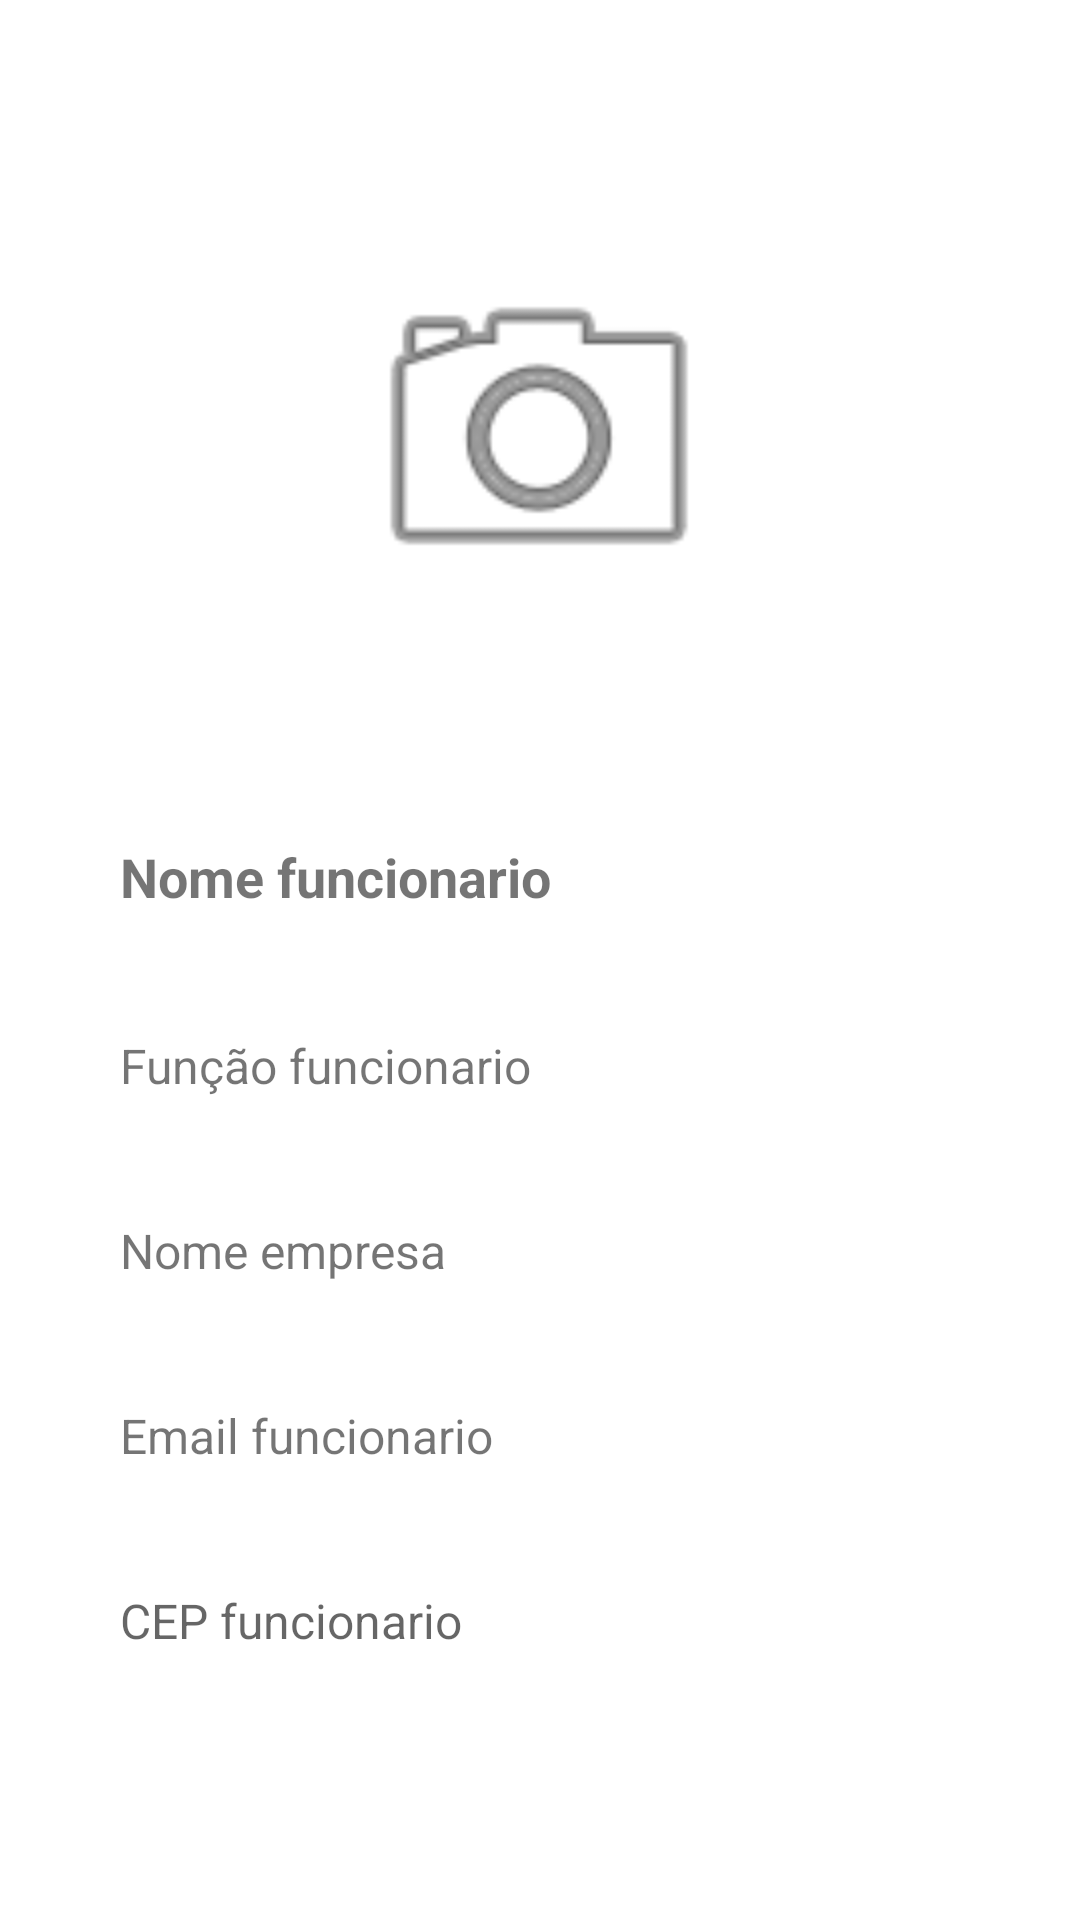

Locate icon controls on the screen. Image size 1080x1920, boxes as (x1, y1, x2, y2).
camera: (390, 307, 688, 545)
